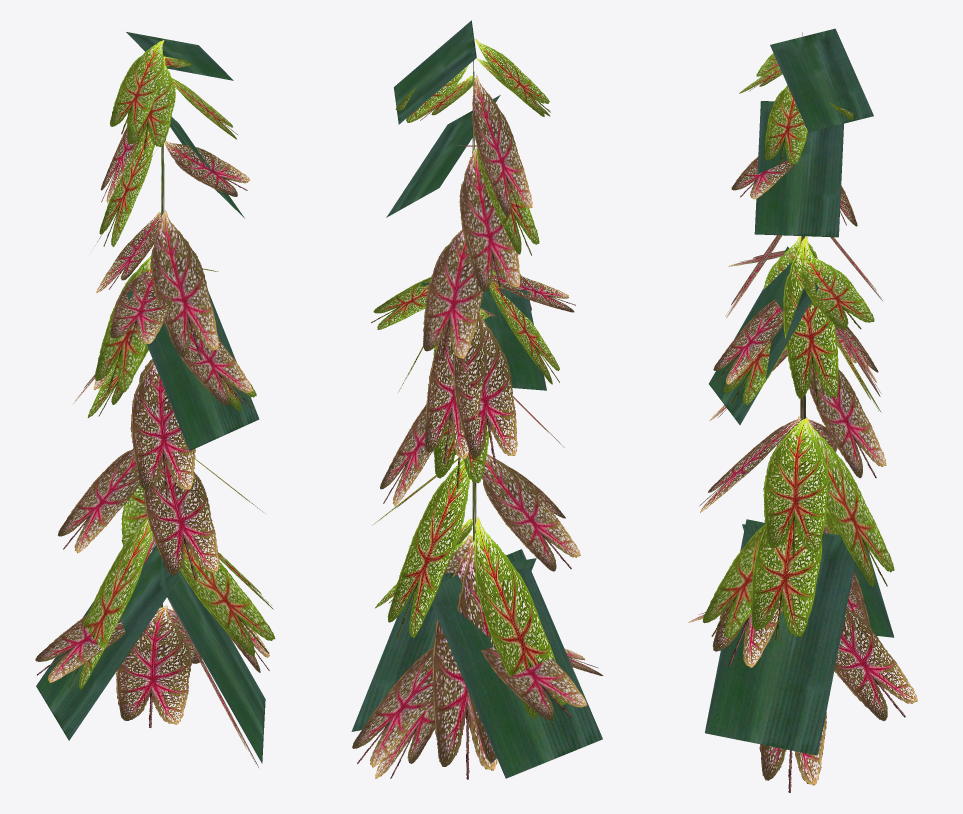
The model's file is twig pl;ant.obj.
3 views of the same model, side by side, from view 1: azimuth 30°, elevation 25°; view 2: azimuth 150°, elevation 25°; view 3: azimuth 270°, elevation 25° (orthographic). The views are drawn at different scales.
Parts seen in each view (by area): view 1: Plant1; view 2: Plant1; view 3: Plant1.
Boxes of the visible parts, left/top/right/bottom form: Plant1: left=35, top=32, right=275, bottom=767; Plant1: left=351, top=20, right=603, bottom=779; Plant1: left=688, top=28, right=917, bottom=792.
Size of the model in its own units: 35.3 by 110 by 38.76.
